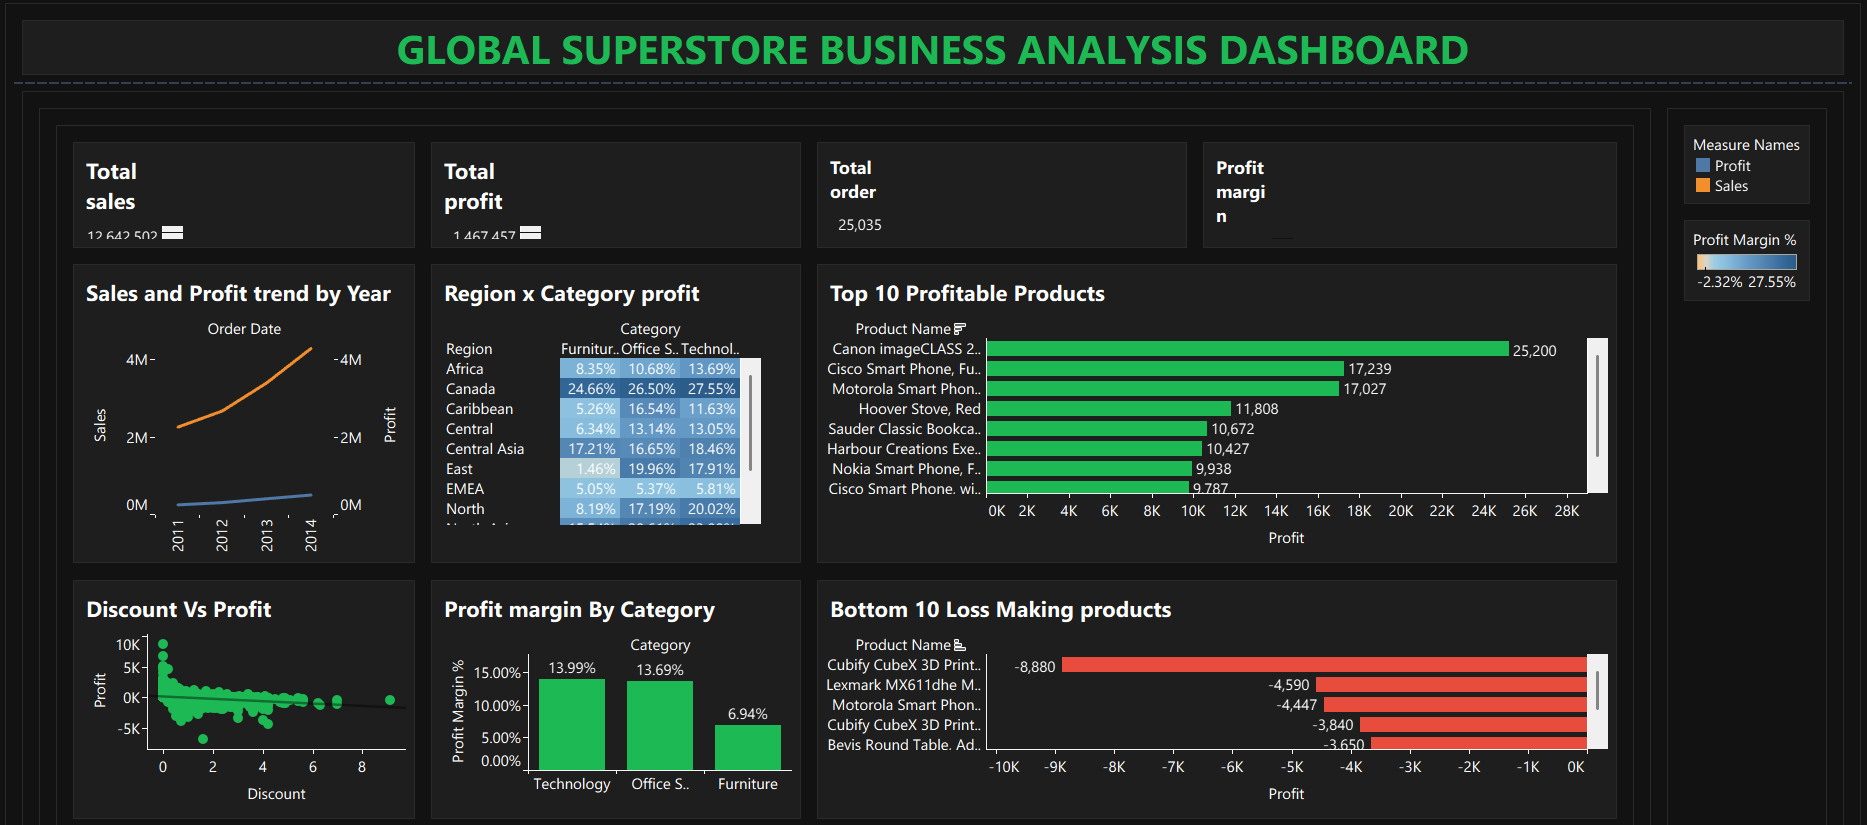

The page's visual inventory and layout, read from the dashboard file:
{"tool":"tableau","page":{"name":"Global Superstore Business Dashboard","canvas":[1000,1000],"units":"permille","ordinal":0},"visuals":[{"type":"text","box":[9.1,15.5,981.9,79.9]},{"type":"legend","title":"sales and profit trend by year","param":"[federated.1uqix5500h6gse1806ezc0mr3gli].[:Measure Names]","box":[896.9,126.2,75.9,86.4]},{"type":"worksheet","title":"Total sales","mark":"Automatic","box":[36.3,141.7,191.4,140.1]},{"type":"worksheet","title":"Total profit","mark":"Automatic","box":[227.7,141.7,206.2,140.1]},{"type":"worksheet","title":"Total Orders","mark":"Automatic","box":[433.9,141.7,206.2,140.1]},{"type":"worksheet","title":"profit margin","mark":"Automatic","box":[640.1,141.7,229.6,140.1]},{"type":"legend","title":"Region x category profit","param":"[federated.1uqix5500h6gse1806ezc0mr3gli].[usr:Calculation_0827984359612417:qk]","box":[896.9,212.6,75.9,88.2]},{"type":"worksheet","title":"sales and profit trend by year","mark":"Automatic","rows":["Sales","Profit"],"cols":["Order Date"],"box":[36.3,281.8,191.4,362.7]},{"type":"worksheet","title":"Region x category profit","mark":"Square","rows":["Region"],"cols":["Category"],"box":[227.7,281.8,206,362.7]},{"type":"worksheet","title":"Top 10 profitable products","mark":"Automatic","rows":["Product Name"],"cols":["Profit"],"box":[433.7,281.8,436,362.7]},{"type":"worksheet","title":"Dis Vs Pro","mark":"Circle","rows":["Profit"],"cols":["Discount"],"box":[36.3,644.6,191.4,293.7]},{"type":"worksheet","title":"profit margin by Category","mark":"Automatic","rows":["Calculation_0827984359612417"],"cols":["Category"],"box":[227.7,644.6,206.1,293.7]},{"type":"worksheet","title":"bottom 10 loss making Products","mark":"Automatic","rows":["Product Name"],"cols":["Profit"],"box":[433.8,644.6,435.9,293.7]}]}

Visuals, with their boxes on the dashboard's canvas, which has no fixed pixel size, in thousandths of its width and height (x1, y1, x2, y2). These are canvas units, not pixel positions in the 1867x825 screenshot, which may show the page scaled, cropped or inside an application window:
text: rect(9, 16, 991, 95)
"sales and profit trend by year" legend: rect(897, 126, 973, 213)
"Total sales" worksheet: rect(36, 142, 228, 282)
"Total profit" worksheet: rect(228, 142, 434, 282)
"Total Orders" worksheet: rect(434, 142, 640, 282)
"profit margin" worksheet: rect(640, 142, 870, 282)
"Region x category profit" legend: rect(897, 213, 973, 301)
"sales and profit trend by year" worksheet: rect(36, 282, 228, 644)
"Region x category profit" worksheet (Square marks): rect(228, 282, 434, 644)
"Top 10 profitable products" worksheet: rect(434, 282, 870, 644)
"Dis Vs Pro" worksheet (Circle marks): rect(36, 645, 228, 938)
"profit margin by Category" worksheet: rect(228, 645, 434, 938)
"bottom 10 loss making Products" worksheet: rect(434, 645, 870, 938)
